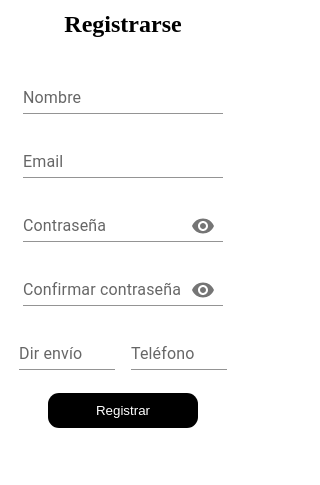
Test: Register component › U8F-007: Validar existencia de mayúscula en contraseña.
This screenshot has width=320, height=485.
Type "hola1234" into the password field labelled "Contraseña".
click(99, 226); type("hola1234")  # box x1=23 y1=210 x2=175 y2=242
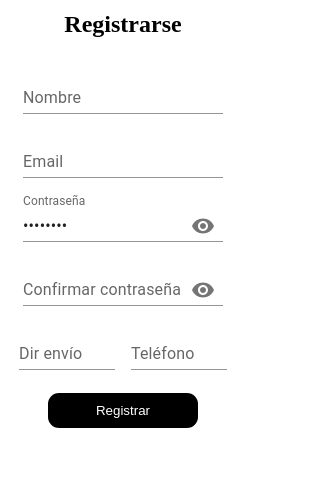
Click the button "Registrar".
click(123, 410)  # box x1=48 y1=393 x2=198 y2=428
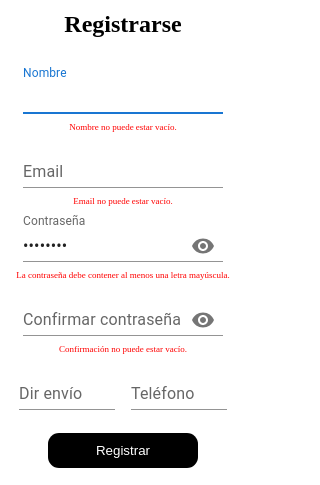
Result: the text with test id "PasswordAlerts" reads "La contraseña debe contener al menos una letra mayúscula." at x1=16 y1=270 x2=230 y2=280
